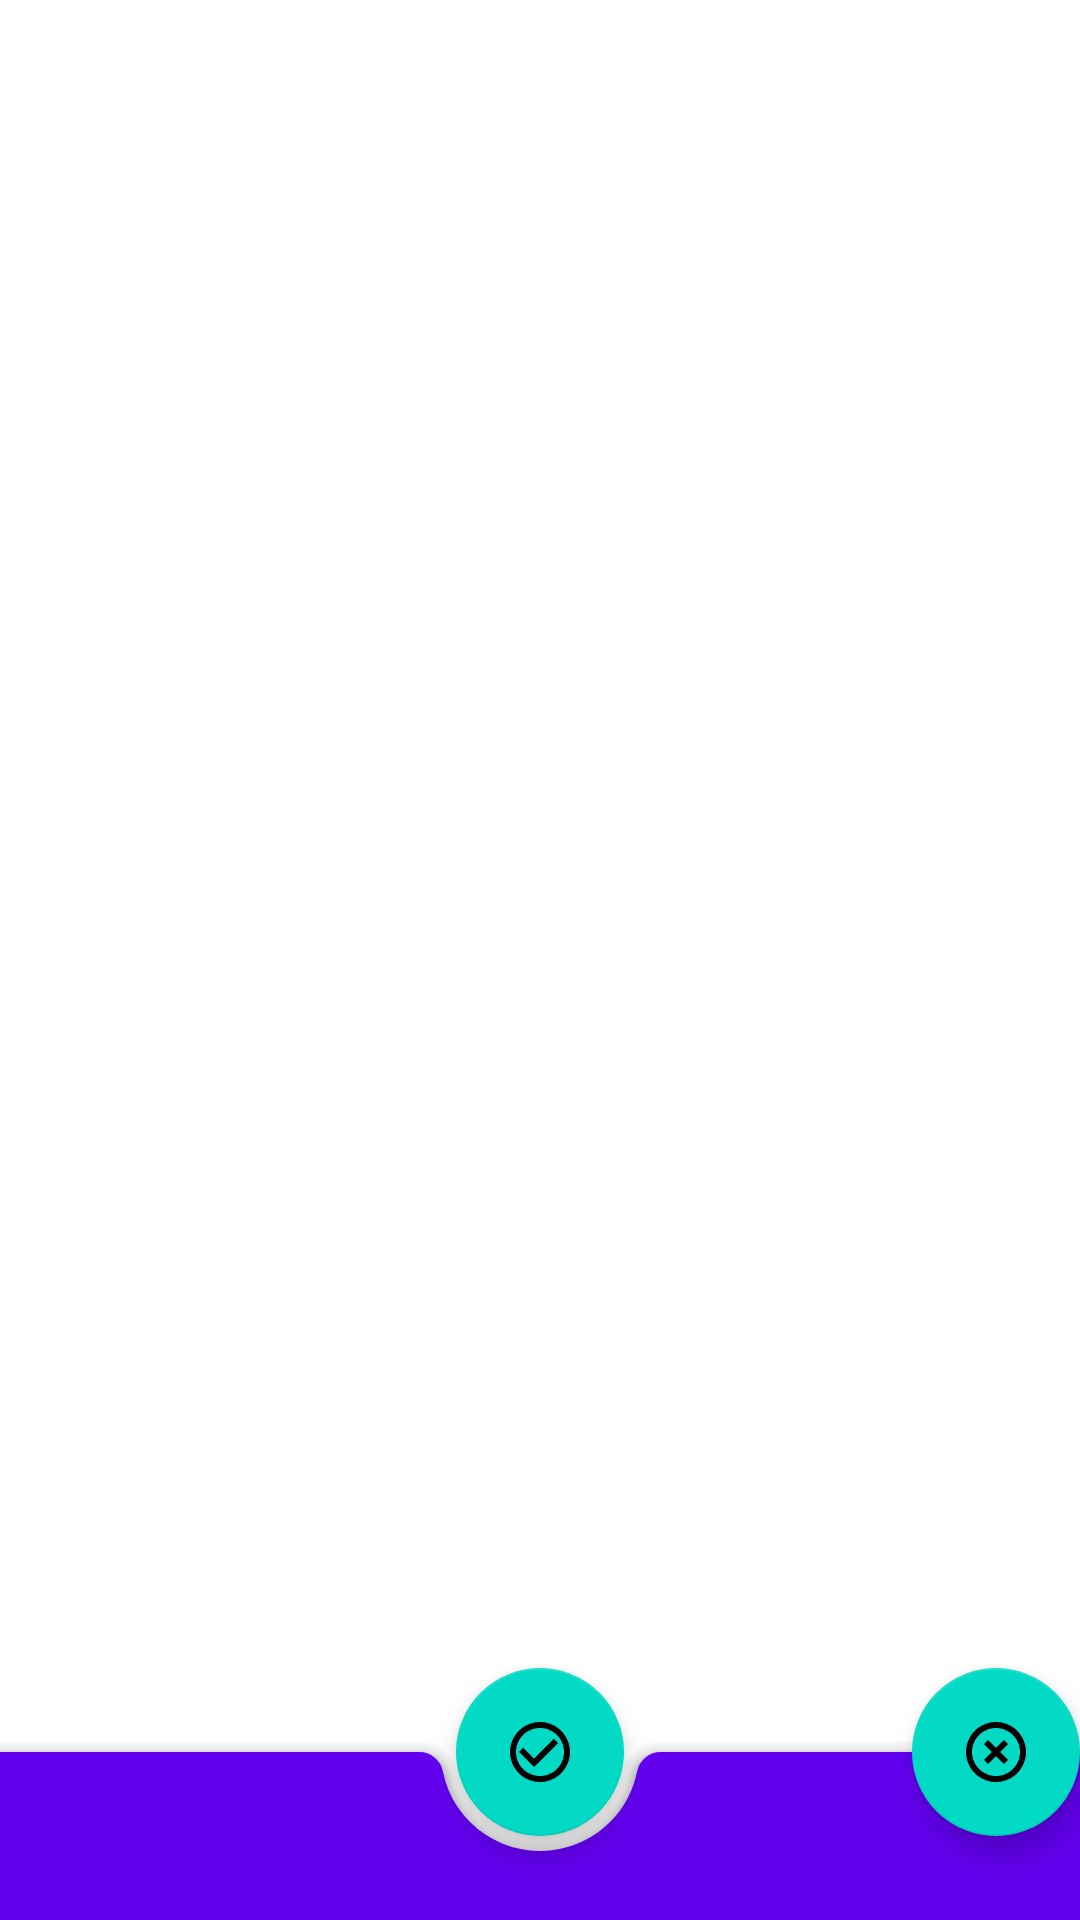

Screen size 1080×1920. Icon name, then its center in pixels as point (x, y):
cancle: point (996, 1752)
save: point (540, 1752)
